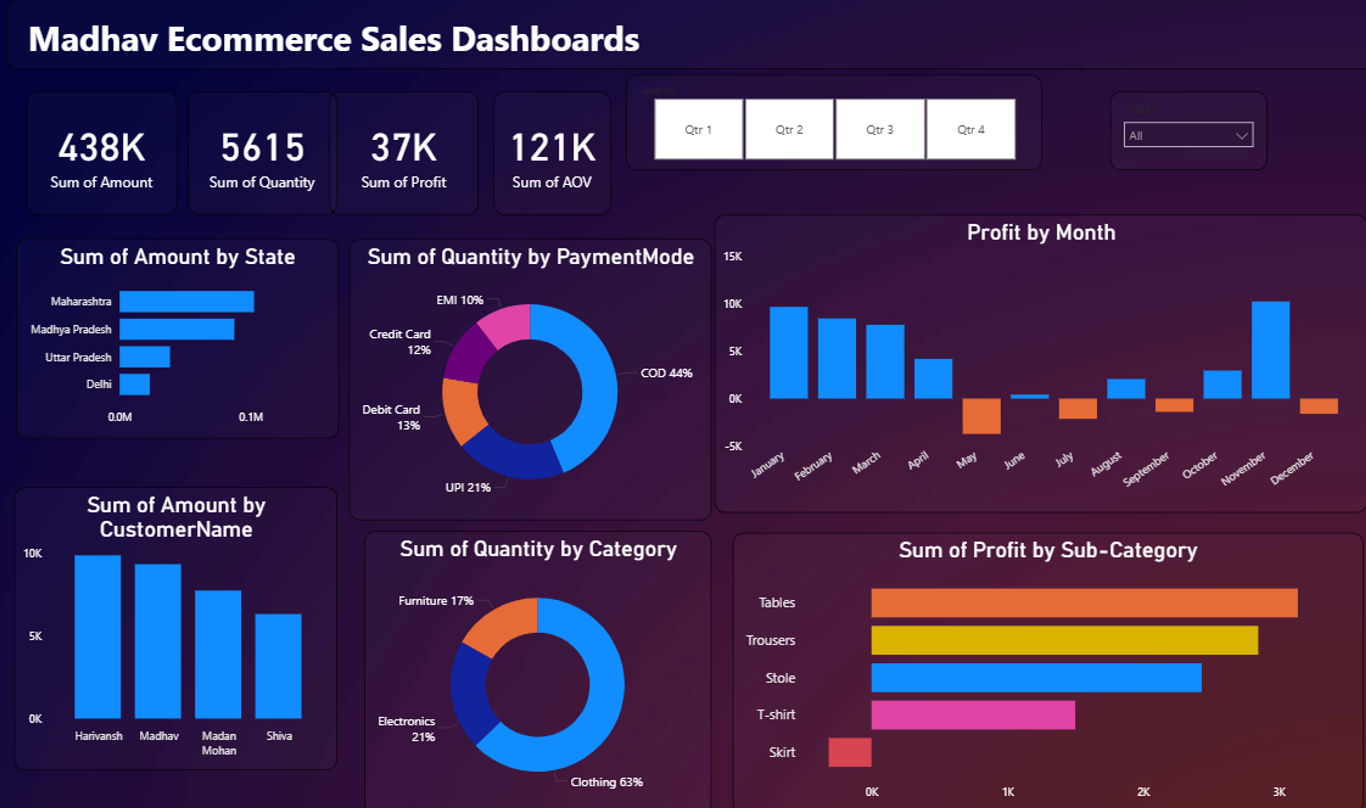

The dashboard page shown, as its layout file describes it:
{"tool":"powerbi","page":{"name":"Page 1","canvas":[1500,900],"ordinal":0},"visuals":[{"type":"textbox","box":[10,0,1590,62],"z":0},{"type":"columnChart","title":" Profit by Month","fields":{"Category":["Orders.Order Date.Variation.Date Hierarchy.Month"],"Y":["Details.Profit"]},"box":[785,236.7,715,326.7],"z":1000},{"type":"barChart","fields":{"Category":["Details.Sub-Category"],"Y":["Details.Profit"]},"box":[805,585,690,308.3],"z":2000},{"type":"donutChart","fields":{"Category":["Details.Category"],"Y":["Details.Quantity"]},"box":[401.7,583.3,380,310],"z":3000},{"type":"donutChart","fields":{"Category":["Details.PaymentMode"],"Y":["Details.Quantity"]},"box":[385,263.3,396.7,308.3],"z":4000},{"type":"card","fields":{"Values":["Details.Amount"]},"box":[44,102,151,135],"z":5000},{"type":"card","fields":{"Values":["Details.Quantity"]},"box":[208.3,101.7,163.3,135],"z":6000},{"type":"card","fields":{"Values":["Details.Profit"]},"box":[363.3,101.7,163.3,135],"z":7000},{"type":"card","fields":{"Values":["Details.AOV"]},"box":[543.3,101.7,128.3,135],"z":8000},{"type":"barChart","fields":{"Category":["Orders.State"],"Y":["Details.Amount"]},"box":[20,263.3,353.3,218.3],"z":9000},{"type":"columnChart","fields":{"Category":["Orders.CustomerName"],"Y":["Details.Amount"]},"box":[18.3,535,353.3,310],"z":10000},{"type":"slicer","fields":{"Values":["Orders.Order Date.Variation.Date Hierarchy.Quarter"]},"box":[688.3,83.3,455,105],"z":11000},{"type":"slicer","fields":{"Values":["Orders.State"]},"box":[1218.3,101.7,171.7,86.7],"z":12000}]}

Visuals, with their boxes in screenshot pixels (x1, y1, x2, y2), scaled from the page's 1500x900 canvas onto the 1366x808 screenshot:
textbox: Rect(9, 0, 1365, 56)
" Profit by Month" columnChart: Rect(715, 213, 1365, 506)
barChart - Details.Sub-Category x Details.Profit: Rect(733, 525, 1361, 802)
donutChart - Details.Category x Details.Quantity: Rect(366, 524, 712, 802)
donutChart - Details.PaymentMode x Details.Quantity: Rect(351, 236, 712, 513)
card - Details.Amount: Rect(40, 92, 178, 213)
card - Details.Quantity: Rect(190, 91, 338, 213)
card - Details.Profit: Rect(331, 91, 480, 213)
card - Details.AOV: Rect(495, 91, 612, 213)
barChart - Orders.State x Details.Amount: Rect(18, 236, 340, 432)
columnChart - Orders.CustomerName x Details.Amount: Rect(17, 480, 338, 759)
slicer - Orders.Order Date.Variation.Date Hierarchy.Quarter: Rect(627, 75, 1041, 169)
slicer - Orders.State: Rect(1109, 91, 1266, 169)
